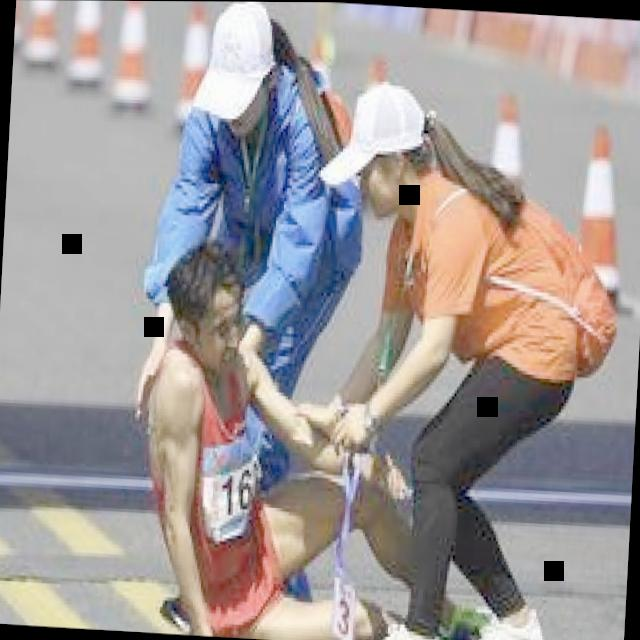Fall-Detected: (121, 206, 528, 640)
